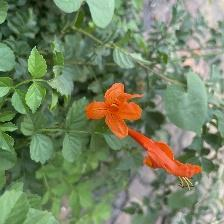honeysuckle: (126, 121, 205, 188), (87, 81, 143, 141)
